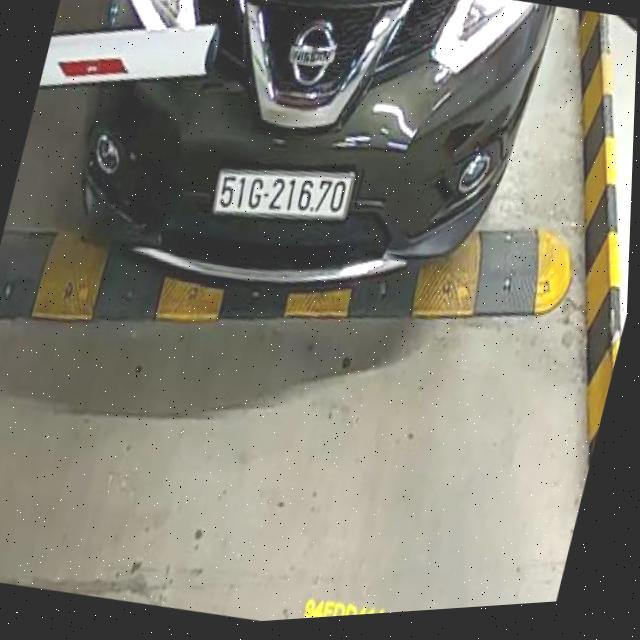car: (31, 0, 551, 357)
plate: (206, 147, 362, 241)
